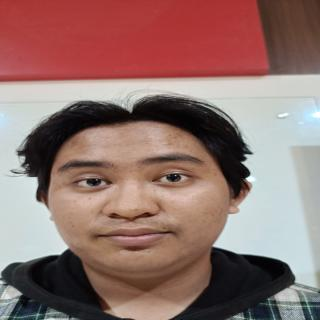Takut: (43, 120, 237, 287)
